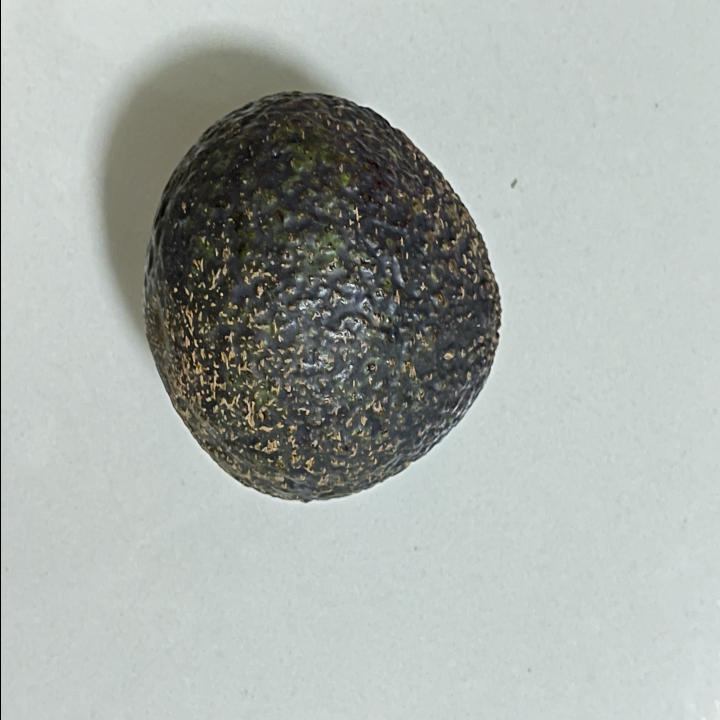Level2: (137, 82, 507, 510)
